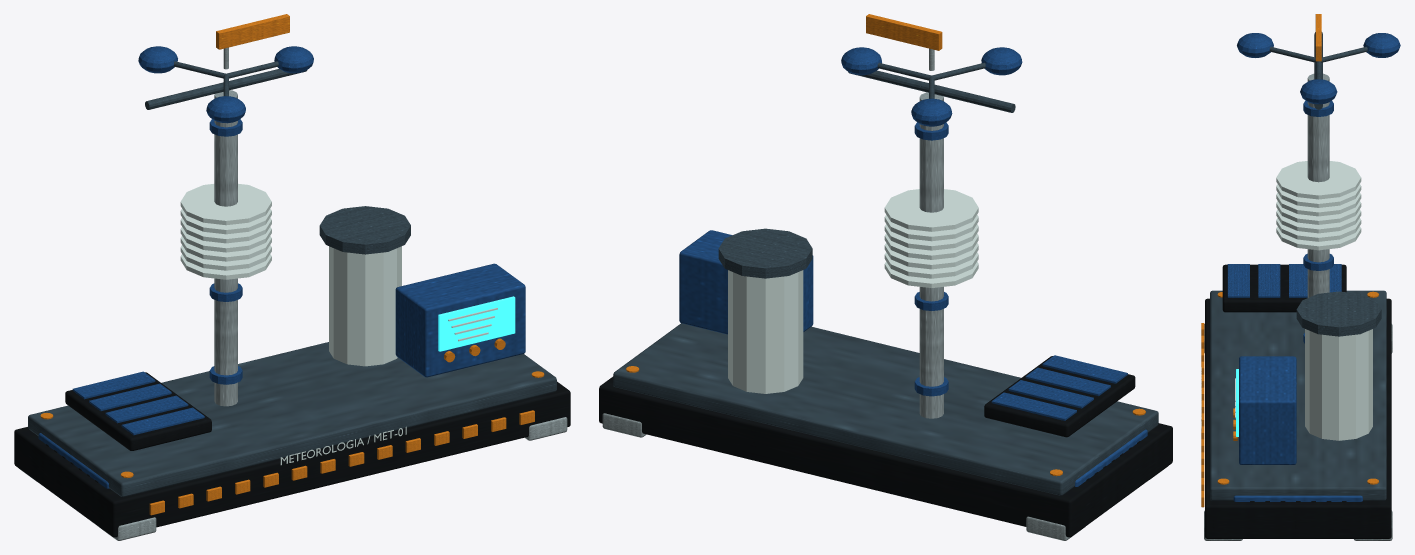
File: estacao-meteorologica.glb
The picture shows the model from 3 angles, left to right: view 1: azimuth 30°, elevation 25°; view 2: azimuth 150°, elevation 25°; view 3: azimuth 270°, elevation 25°; orthographic projection. The views are drawn at different scales.
Visible parts, largest first — view 1: Deck aparafusado.001, Chassi reforçado.001, Painel de inspeção lateral.002, METEOROLOGIA / MET-01.001, Sapata de nivelamento.004, Parafuso de ancoragem.004, Tela de diagnóstico.001; view 2: Deck aparafusado.001, Chassi reforçado.001, METEOROLOGIA / MET-01.001, Painel de inspeção lateral.002, Sapata de nivelamento.004, Parafuso de ancoragem.004; view 3: Deck aparafusado.001, METEOROLOGIA / MET-01.001, Painel de inspeção lateral.002, Chassi reforçado.001, Sapata de nivelamento.004, Parafuso de ancoragem.004.
Part boxes in pixels (x1,y1,x2,y2): Deck aparafusado.001: (28,61,556,496); Chassi reforçado.001: (14,372,570,537); Painel de inspeção lateral.002: (38,46,525,488); METEOROLOGIA / MET-01.001: (180,183,497,465); Sapata de nivelamento.004: (20,47,567,540); Parafuso de ancoragem.004: (40,14,544,515); Tela de diagnóstico.001: (438,296,515,351); Deck aparafusado.001: (613,62,1158,495); Chassi reforçado.001: (599,356,1172,537); METEOROLOGIA / MET-01.001: (728,189,978,393); Painel de inspeção lateral.002: (679,47,1147,486); Sapata de nivelamento.004: (602,48,1167,540); Parafuso de ancoragem.004: (626,14,1145,476); Deck aparafusado.001: (1210,32,1386,500); METEOROLOGIA / MET-01.001: (1201,161,1372,440); Painel de inspeção lateral.002: (1227,33,1400,501); Chassi reforçado.001: (1205,264,1391,538); Sapata de nivelamento.004: (1204,73,1392,540); Parafuso de ancoragem.004: (1201,14,1378,507).
Bounding box in the file's own units: 2.9 × 2.58 × 1.17.
Materials: 7 (5 with a texture image).
